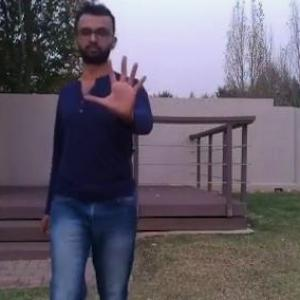follow_hand: (84, 49, 152, 120)
